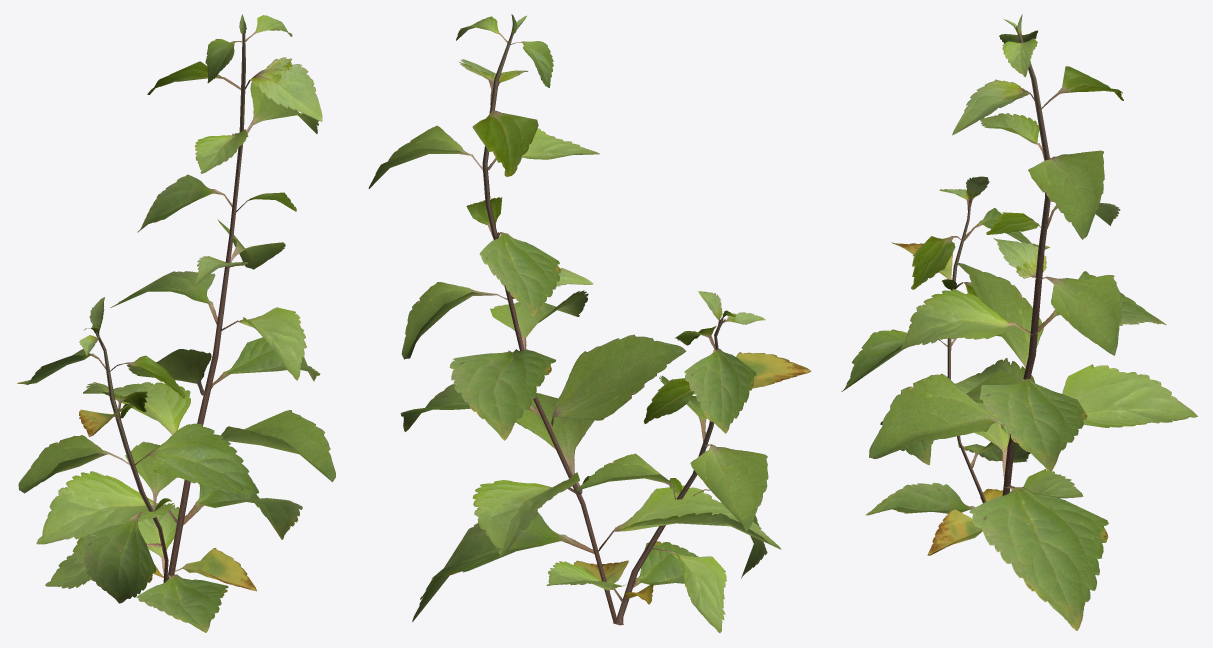
The model's file is shrub_a.glb.
3 renders of one model, left to right at view 1: azimuth 30°, elevation 25°; view 2: azimuth 150°, elevation 25°; view 3: azimuth 270°, elevation 25°, orthographic. The views are drawn at different scales.
Parts seen in each view (by area): view 1: Forest_shrub_a; view 2: Forest_shrub_a; view 3: Forest_shrub_a.
Boxes of the visible parts, box(x1,y1,x2,y2) form: Forest_shrub_a: box(17, 14, 335, 632); Forest_shrub_a: box(368, 14, 811, 633); Forest_shrub_a: box(841, 14, 1197, 630).
Size of the model in its own units: 0.2308 by 0.3719 by 0.2057.
Materials: 1 (1 with a texture image).
